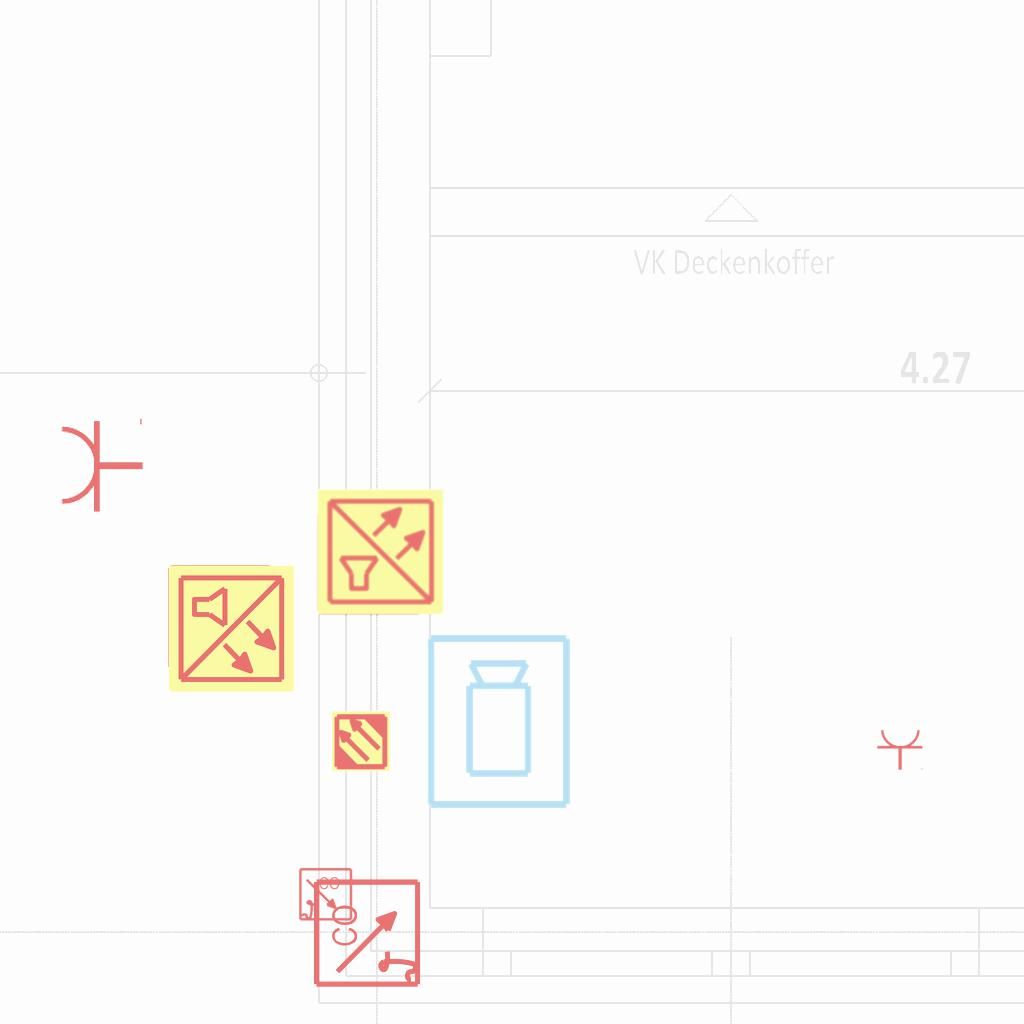ASR_Ansaugrauchmelder: (330, 710, 392, 772)
KFO_Kamera_mit_Festobjektiv: (423, 631, 577, 813)
OKW_Multisensormelder_(Kombination_optischer_Rauch-Kahlenmonoxid_Waerme-Melder): (165, 563, 297, 695), (315, 486, 447, 618)
ROA_Rauchmelder_optisch_mit_Signalgeber_(Sockelsirene): (312, 876, 425, 989), (298, 867, 354, 923)
Schukosteckdose_einfach: (58, 414, 145, 514), (876, 728, 926, 771)
